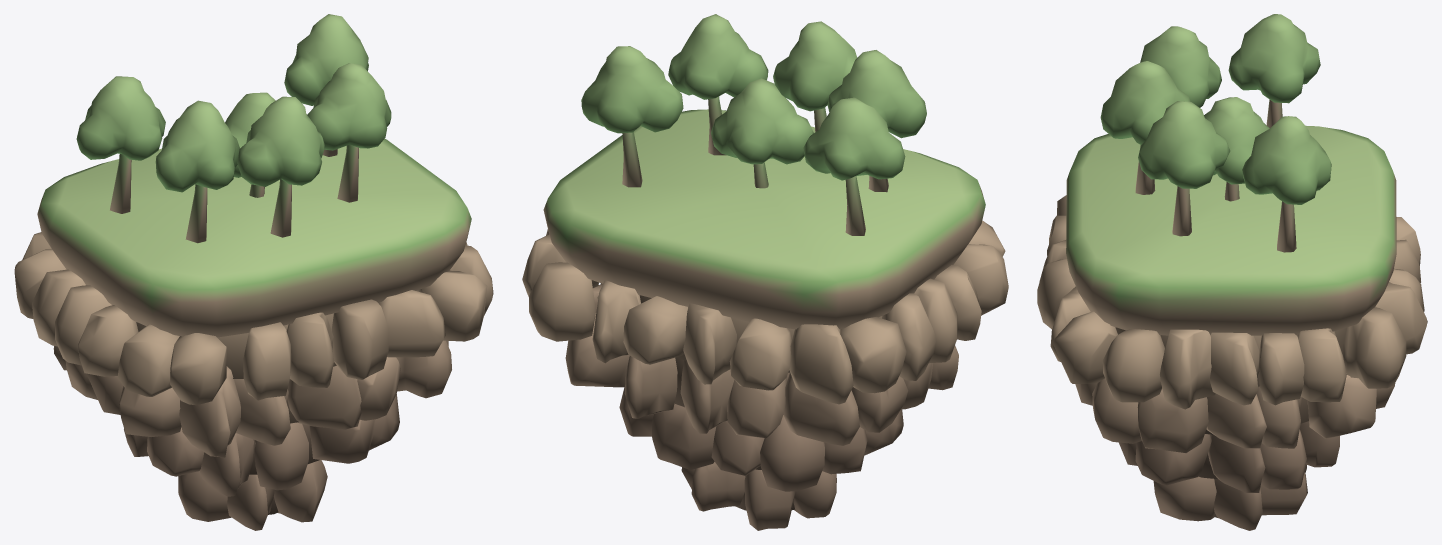
File: far_trees.glb
The picture shows the model from 3 angles, left to right: view 1: azimuth 30°, elevation 25°; view 2: azimuth 150°, elevation 25°; view 3: azimuth 270°, elevation 25°; orthographic projection.
Visible parts, largest first — view 1: far_trees; view 2: far_trees; view 3: far_trees.
Part boxes in pixels (x1,y1,x2,y2): far_trees: (14, 14, 493, 530); far_trees: (522, 14, 1008, 530); far_trees: (1037, 14, 1427, 530).
Bounding box in the file's own units: 3.65 × 3.95 × 3.18.
